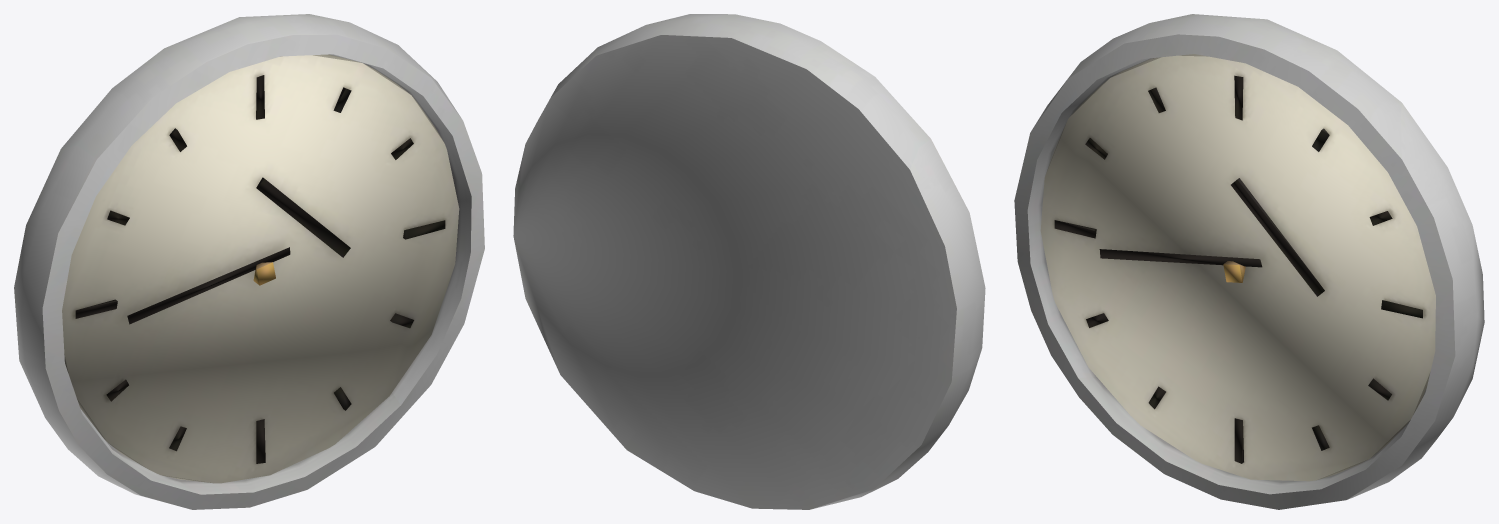
Rendered from wall_clock-low.glb.
3 views of the same model, side by side, from view 1: azimuth 30°, elevation 25°; view 2: azimuth 150°, elevation 25°; view 3: azimuth 330°, elevation 25° (orthographic).
Parts seen in each view (by area): view 1: wall_clock-low; view 2: wall_clock-low; view 3: wall_clock-low.
Boxes of the visible parts, x1,y1,x2,y2 form: wall_clock-low: (14,14,484,509); wall_clock-low: (513,14,985,509); wall_clock-low: (1014,14,1484,509).
Bounding box in the file's own units: 0.332 × 0.3321 × 0.0401.
Materials: 1 (1 with a texture image).
